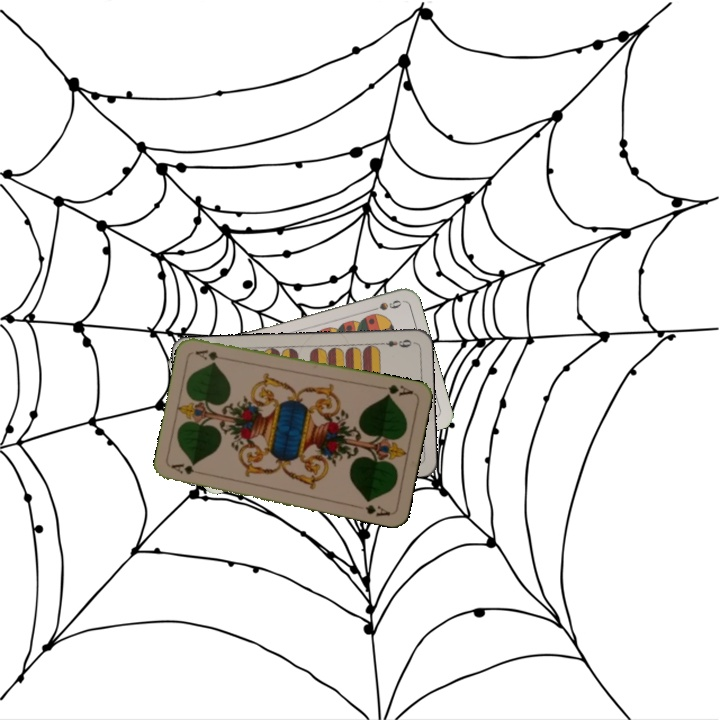E9: (375, 336, 414, 350)
GA: (376, 380, 416, 399), (168, 460, 208, 478)
S9: (364, 296, 404, 315)
